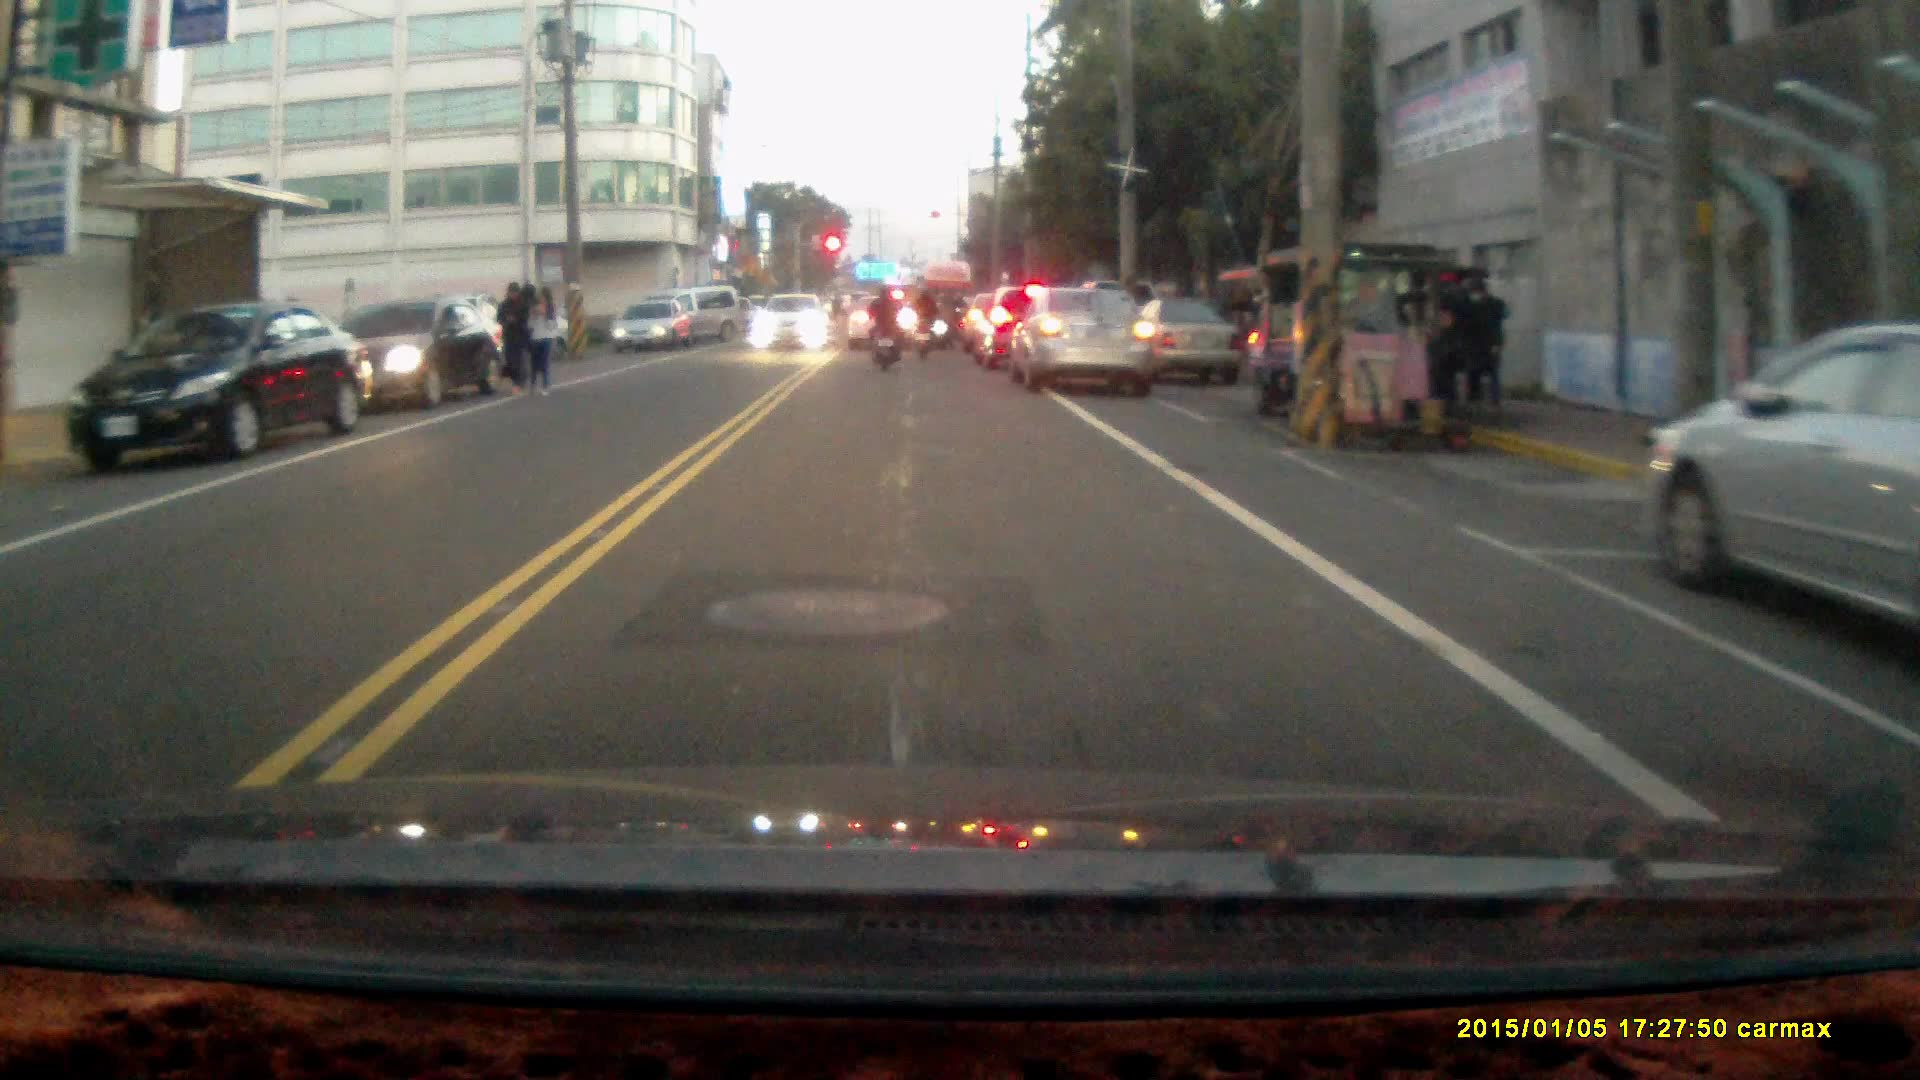pedestrian: (1462, 279, 1511, 419), (493, 278, 533, 397), (528, 283, 557, 397)
rider: (866, 282, 903, 373), (906, 281, 938, 360)
vehicle: (1641, 342, 1920, 664), (72, 305, 367, 473), (1238, 246, 1493, 441), (336, 298, 508, 417), (1014, 288, 1160, 400), (754, 296, 835, 358), (614, 301, 698, 355), (848, 295, 925, 354)
